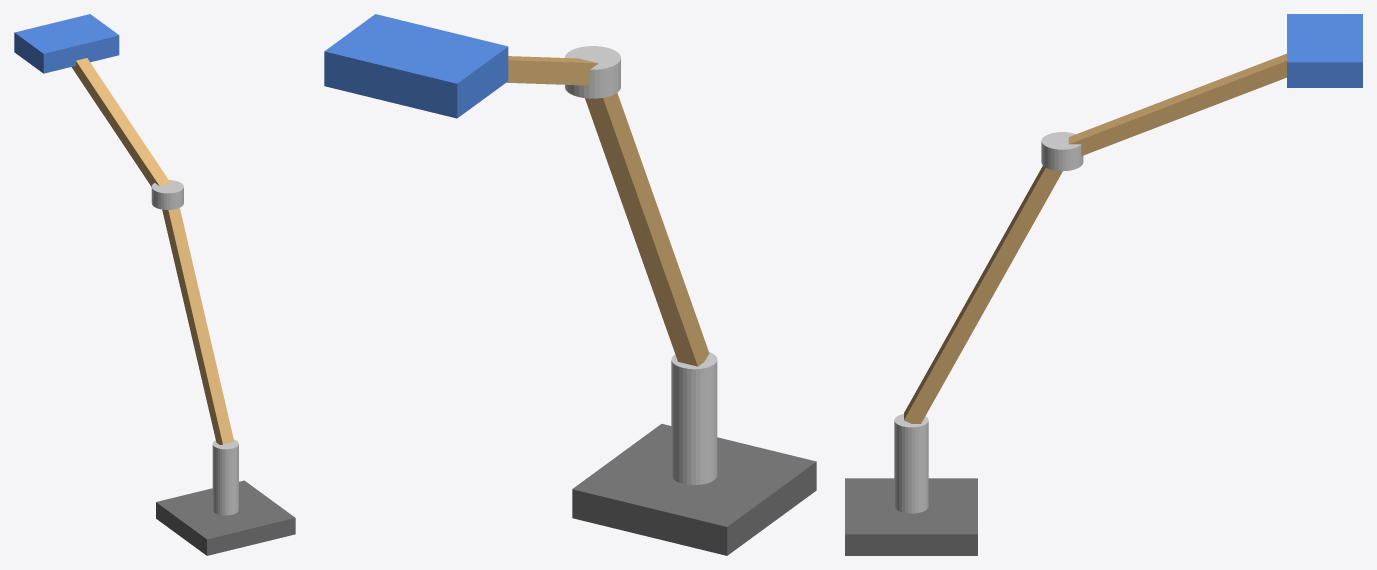
3 renders of one model, left to right at view 1: azimuth 30°, elevation 25°; view 2: azimuth 150°, elevation 25°; view 3: azimuth 270°, elevation 25°, orthographic. The views are drawn at different scales.
Parts seen in each view (by area): view 1: Base, LowerArm, Head, UpperArm, Stem, Joint; view 2: Base, Head, LowerArm, Stem, UpperArm, Joint; view 3: Base, LowerArm, Head, UpperArm, Stem, Joint.
Part boxes in pixels (<box>): Base: <box>156,480,295,555</box>; LowerArm: <box>162,208,234,444</box>; Head: <box>14,14,119,73</box>; UpperArm: <box>71,58,170,186</box>; Stem: <box>212,439,238,515</box>; Joint: <box>151,180,183,209</box>; Base: <box>572,424,816,555</box>; Head: <box>324,14,508,118</box>; LowerArm: <box>585,93,709,366</box>; Stem: <box>671,352,717,484</box>; UpperArm: <box>507,56,598,85</box>; Joint: <box>565,46,620,98</box>; Base: <box>845,478,977,555</box>; LowerArm: <box>904,166,1062,423</box>; Head: <box>1287,14,1362,87</box>; UpperArm: <box>1068,53,1286,156</box>; Stem: <box>894,414,928,513</box>; Joint: <box>1041,132,1083,171</box>.
Size of the model in its own units: 0.14 by 0.5687 by 0.5451.
